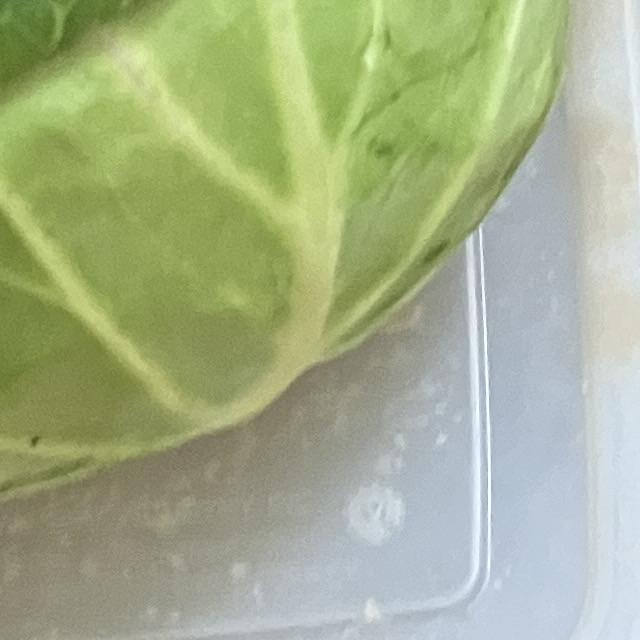cabbage: (0, 0, 593, 533)
